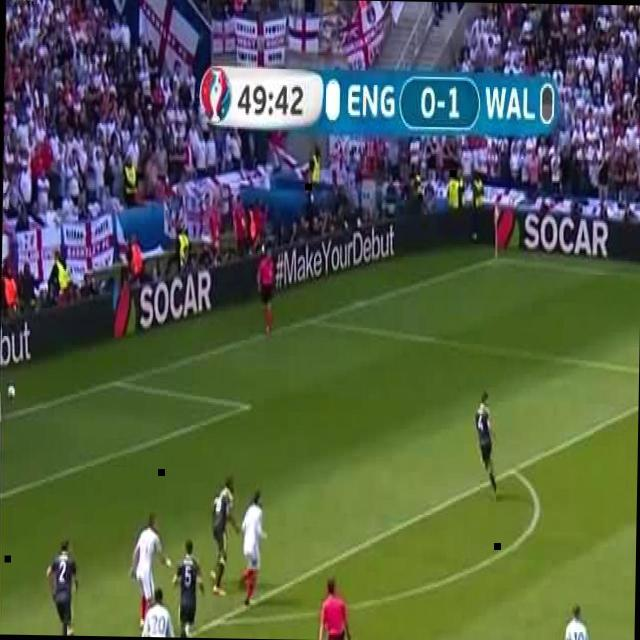ball: (8, 386, 15, 399)
player-white: (130, 513, 167, 635), (238, 489, 270, 607), (210, 475, 240, 598), (45, 536, 77, 636), (172, 538, 202, 638), (474, 389, 498, 499), (316, 577, 351, 640), (256, 248, 276, 337), (140, 587, 174, 637), (564, 601, 589, 640)
